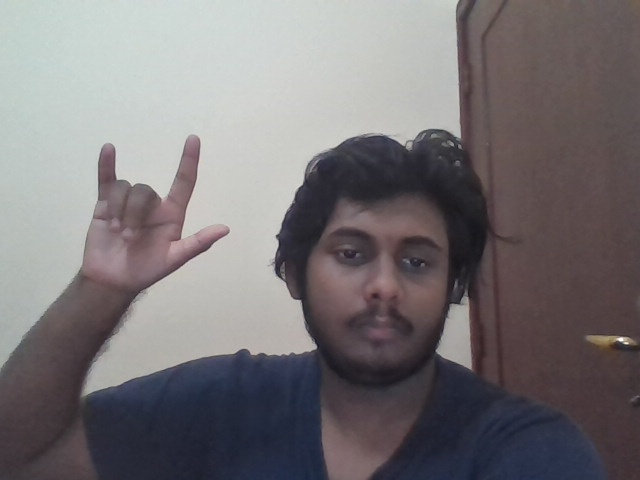iloveyou: (81, 134, 230, 292)
